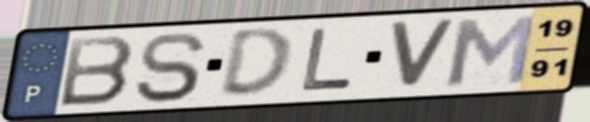B: (56, 34, 138, 110)
D: (215, 25, 296, 100)
L: (297, 26, 356, 95)
M: (444, 13, 539, 89)
S: (130, 30, 210, 105)
V: (385, 18, 460, 92)
